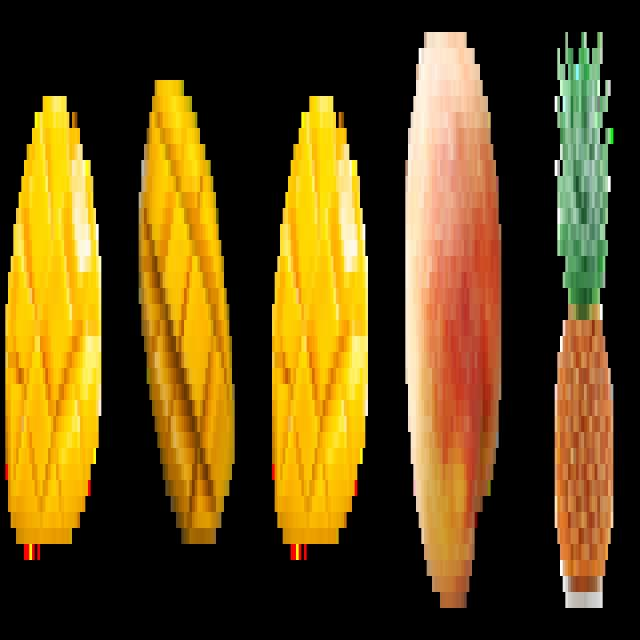mango: (136, 61, 236, 564), (5, 77, 103, 564), (268, 80, 369, 551)
peach: (404, 19, 504, 619)
pineapples: (552, 22, 614, 608)
